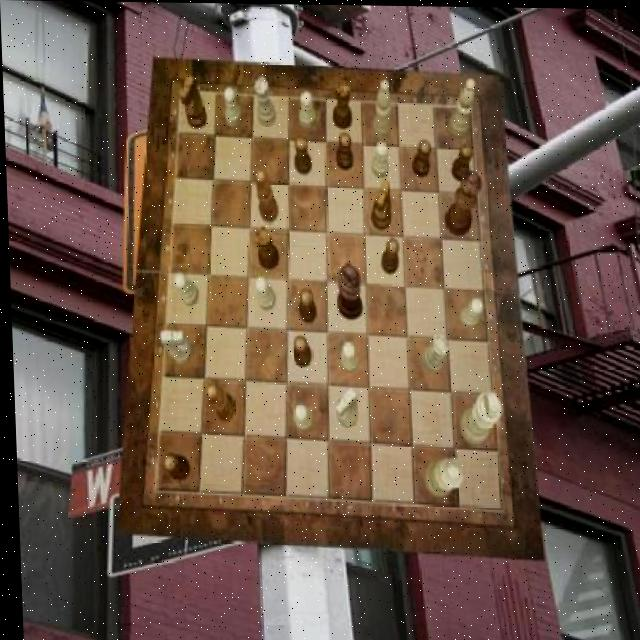bishop: (255, 169, 278, 223), (205, 384, 233, 422)
black-bishop: (334, 262, 361, 319)
black-king: (178, 76, 206, 130), (370, 178, 392, 229)
black-knight: (450, 142, 474, 180), (410, 138, 431, 177), (159, 452, 187, 480), (293, 134, 311, 173), (379, 237, 398, 273), (334, 132, 352, 170), (296, 288, 315, 323), (290, 336, 310, 368)
black-pawn: (442, 168, 481, 235)
black-queen: (331, 79, 353, 129), (254, 226, 278, 268)
black-rook: (448, 78, 478, 138), (372, 78, 392, 139)
white-bishop: (456, 390, 500, 445)
white-king: (159, 329, 191, 364), (332, 387, 356, 427)
white-knight: (172, 272, 197, 307), (456, 296, 481, 329), (252, 275, 274, 310), (224, 87, 241, 127), (298, 90, 316, 127), (369, 140, 387, 176), (338, 341, 356, 373), (290, 403, 311, 429)
white-pawn: (421, 457, 462, 498)
white-queen: (253, 77, 275, 126), (421, 334, 448, 372)
